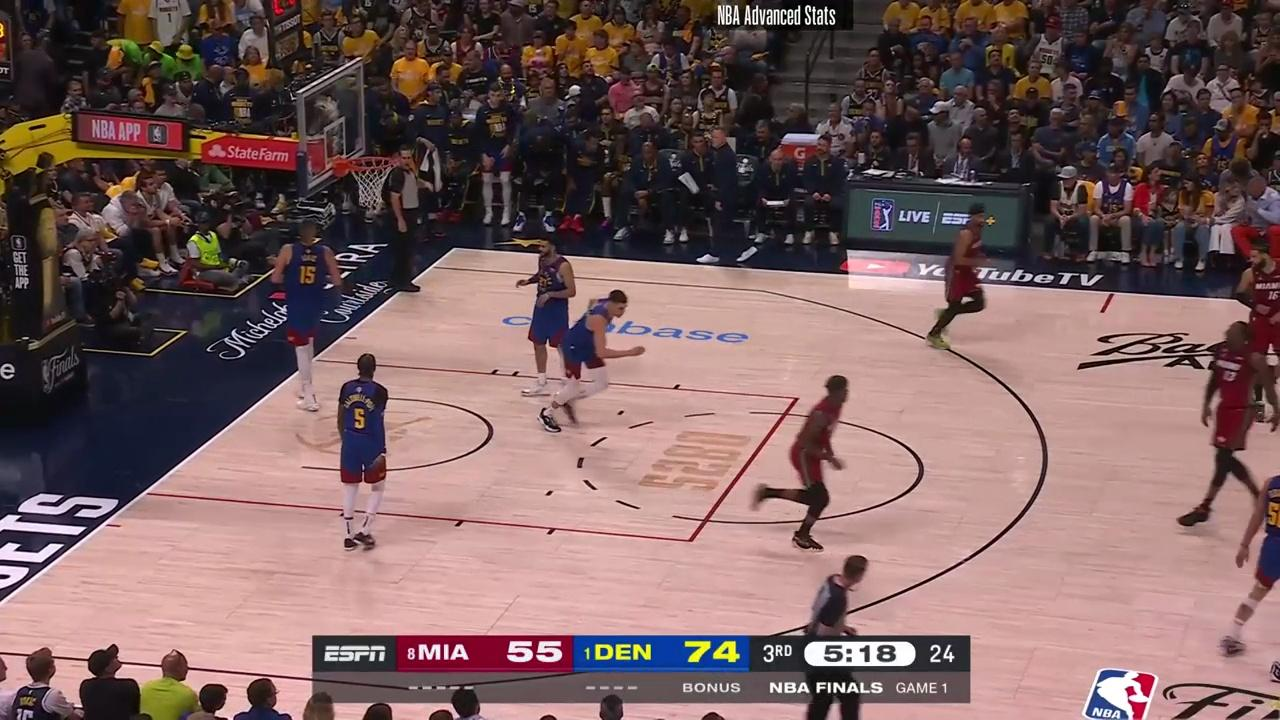Backboard: (298, 84, 352, 193)
Basket: (344, 151, 391, 208)
Person: (736, 364, 867, 555), (1178, 319, 1278, 533), (541, 289, 643, 436), (271, 215, 346, 408), (335, 349, 402, 550), (1216, 455, 1280, 659), (925, 195, 999, 353), (518, 232, 580, 399), (1226, 241, 1280, 419)
Referee: (802, 546, 887, 720), (369, 151, 426, 294)
Shot Clock: (261, 0, 308, 68), (0, 16, 21, 101)
